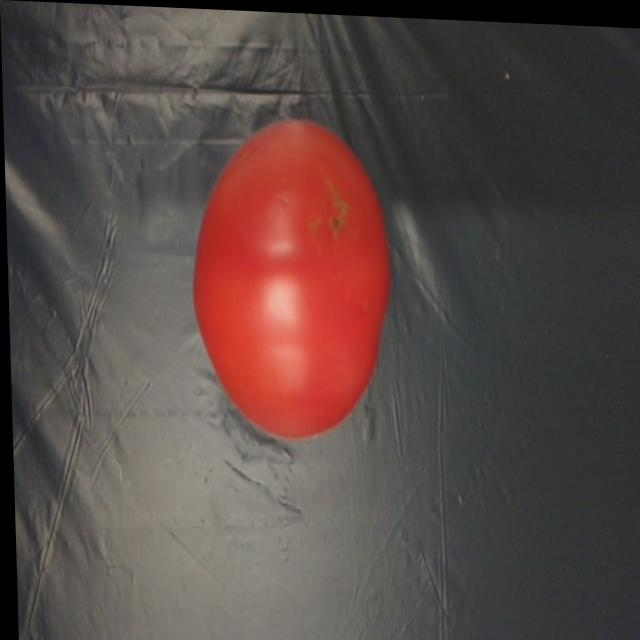kirmizi: (192, 106, 400, 448)
